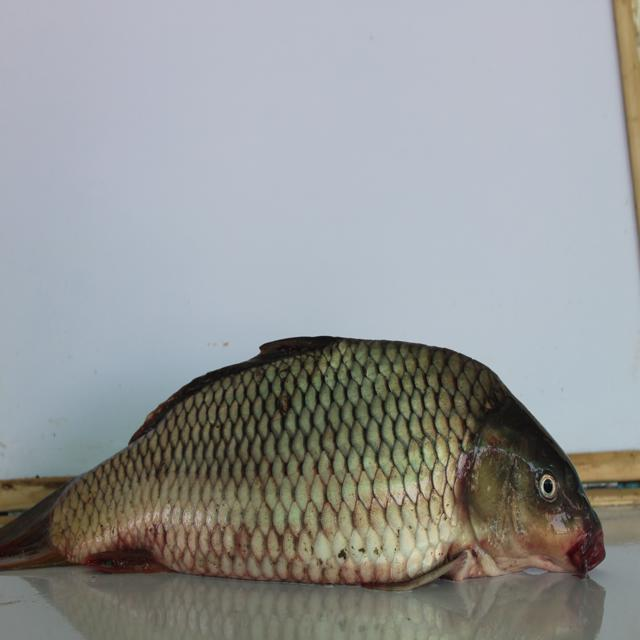CommonCarp: (1, 309, 640, 603)
